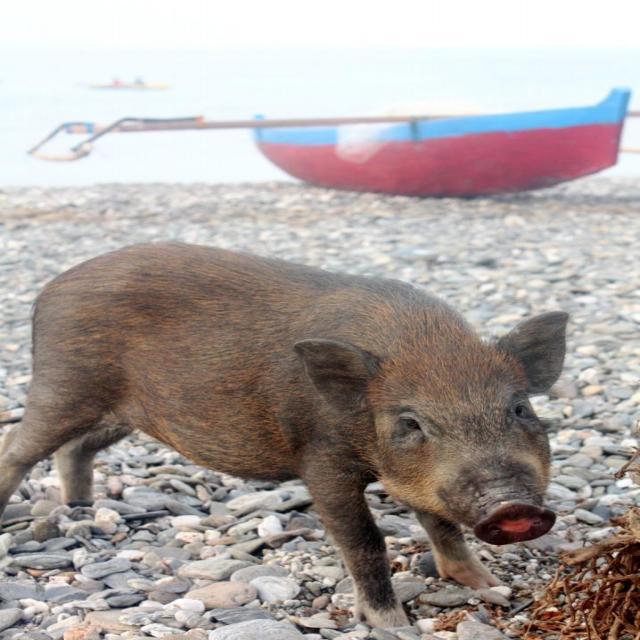Pig: (0, 238, 572, 628)
